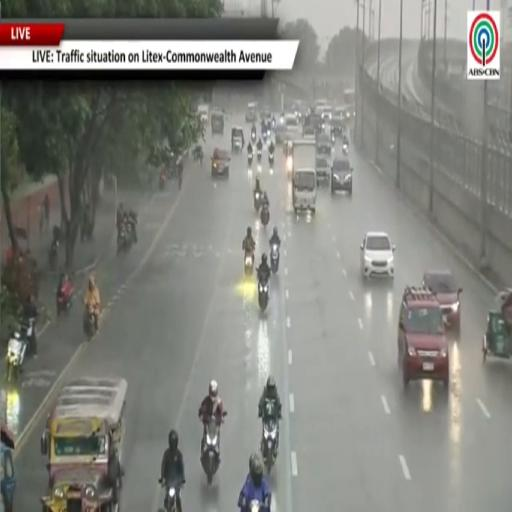car: (398, 287, 449, 387), (423, 270, 462, 331), (360, 232, 395, 278), (331, 155, 353, 196), (212, 148, 230, 178), (304, 114, 324, 135), (316, 155, 330, 183), (316, 133, 332, 155), (211, 110, 224, 135), (232, 126, 244, 151), (330, 117, 344, 137), (276, 124, 288, 143), (198, 104, 209, 124), (322, 104, 334, 122), (246, 103, 257, 122), (284, 114, 299, 126)
jeepney: (41, 378, 127, 511), (0, 423, 16, 511)
motorcycle: (6, 319, 35, 381), (201, 418, 220, 485), (261, 419, 277, 472), (159, 479, 181, 511), (56, 280, 74, 316), (117, 222, 133, 254), (84, 306, 97, 339), (258, 278, 269, 311), (49, 238, 59, 270), (244, 251, 254, 277), (271, 244, 279, 274), (248, 499, 264, 512), (193, 146, 203, 165), (261, 204, 269, 227), (253, 191, 261, 212), (159, 173, 166, 190), (268, 152, 274, 168), (342, 143, 348, 156), (248, 153, 253, 168), (262, 128, 267, 142), (251, 130, 256, 143), (272, 118, 276, 132), (257, 149, 261, 163), (331, 133, 335, 145), (267, 128, 271, 138)
tricycle: (483, 290, 511, 361)
truck: (292, 140, 317, 213)
